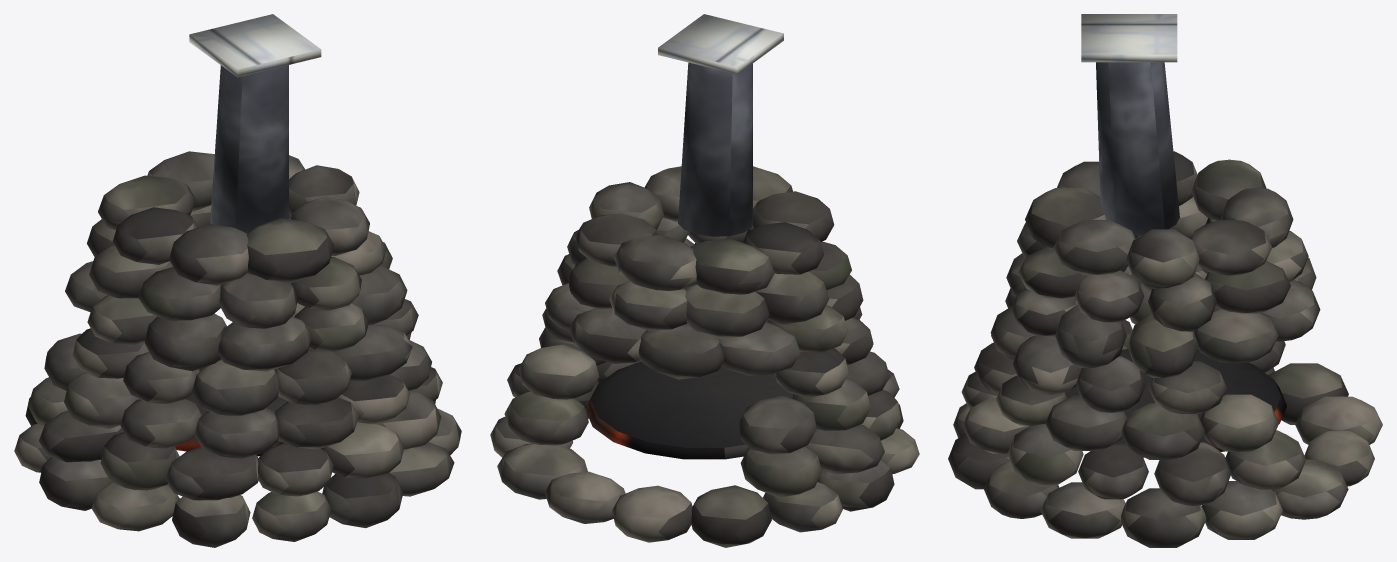
File: forge_stone.glb
3 renders of one model, left to right at view 1: azimuth 30°, elevation 25°; view 2: azimuth 150°, elevation 25°; view 3: azimuth 270°, elevation 25°, orthographic. The views are drawn at different scales.
Visible parts, largest first — view 1: Forge_Stone; view 2: Forge_Stone; view 3: Forge_Stone.
Boxes of the visible parts, x1=… form: Forge_Stone: x1=14, y1=14, x2=461, y2=547; Forge_Stone: x1=490, y1=14, x2=919, y2=547; Forge_Stone: x1=948, y1=14, x2=1382, y2=547.
Size of what is drawn, in the model's own units: 1.56 by 1.7 by 1.54.
Materials: 4 (4 with a texture image).
